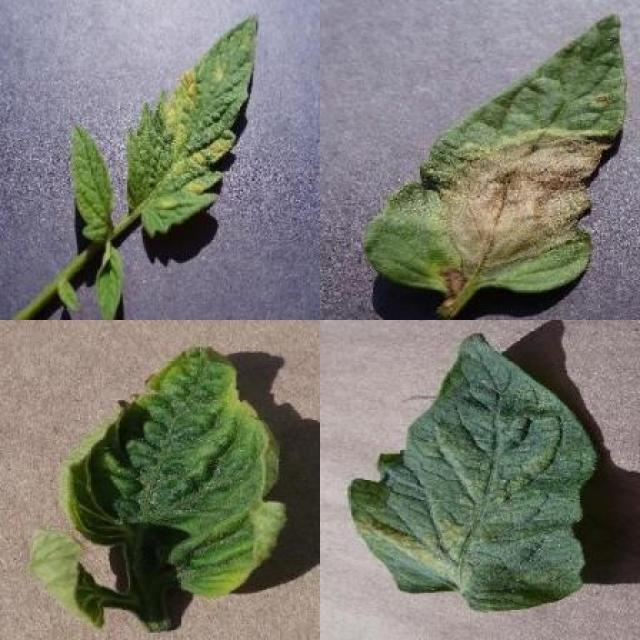Healthy: (71, 120, 115, 241), (96, 247, 124, 320)
Late Blight: (362, 13, 628, 297)
Leaf Mold: (130, 12, 260, 238)
Spider Mites: (348, 333, 598, 613)
Yellow Leaf Curl Virus: (62, 346, 284, 600)
